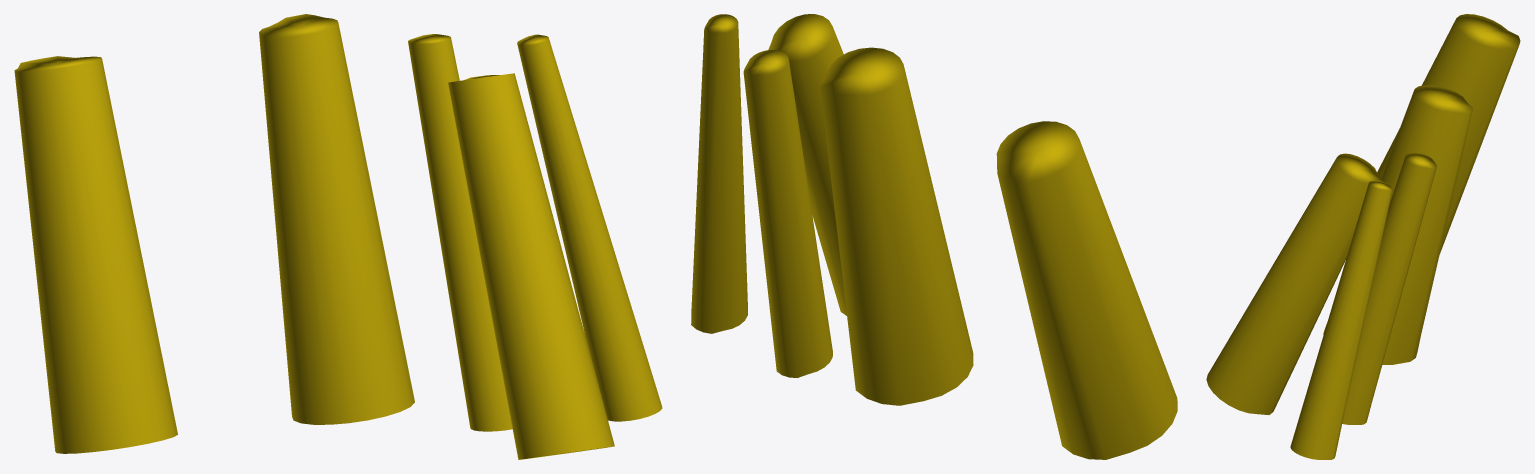
Rendered from SunRayes.fbx.
3 renders of one model, left to right at view 1: azimuth 30°, elevation 25°; view 2: azimuth 150°, elevation 25°; view 3: azimuth 270°, elevation 25°, orthographic. The views are drawn at different scales.
Visible parts, largest first — view 1: Path:pCylinder2, Path:pCylinder3, Path:pCylinder4, Path:pCylinder6, Path:pCylinder5; view 2: Path:pCylinder3, Path:pCylinder2, Path:pCylinder5, Path:pCylinder6, Path:pCylinder4; view 3: Path:pCylinder4, Path:pCylinder3, Path:pCylinder6, Path:pCylinder5, Path:pCylinder2.
Boxes of the visible parts, x1=… form: Path:pCylinder2: x1=14, y1=56, x2=177, y2=453; Path:pCylinder3: x1=259, y1=14, x2=414, y2=424; Path:pCylinder4: x1=448, y1=73, x2=614, y2=459; Path:pCylinder6: x1=517, y1=34, x2=662, y2=421; Path:pCylinder5: x1=408, y1=34, x2=512, y2=431; Path:pCylinder3: x1=820, y1=47, x2=973, y2=405; Path:pCylinder2: x1=996, y1=121, x2=1177, y2=459; Path:pCylinder5: x1=743, y1=50, x2=832, y2=377; Path:pCylinder6: x1=691, y1=14, x2=747, y2=333; Path:pCylinder4: x1=768, y1=14, x2=846, y2=315; Path:pCylinder4: x1=1206, y1=153, x2=1383, y2=414; Path:pCylinder3: x1=1323, y1=85, x2=1472, y2=364; Path:pCylinder6: x1=1290, y1=180, x2=1392, y2=459; Path:pCylinder5: x1=1342, y1=152, x2=1436, y2=424; Path:pCylinder2: x1=1377, y1=14, x2=1520, y2=253.
Bounding box in the file's own units: 3.01 × 2.09 × 2.11.
